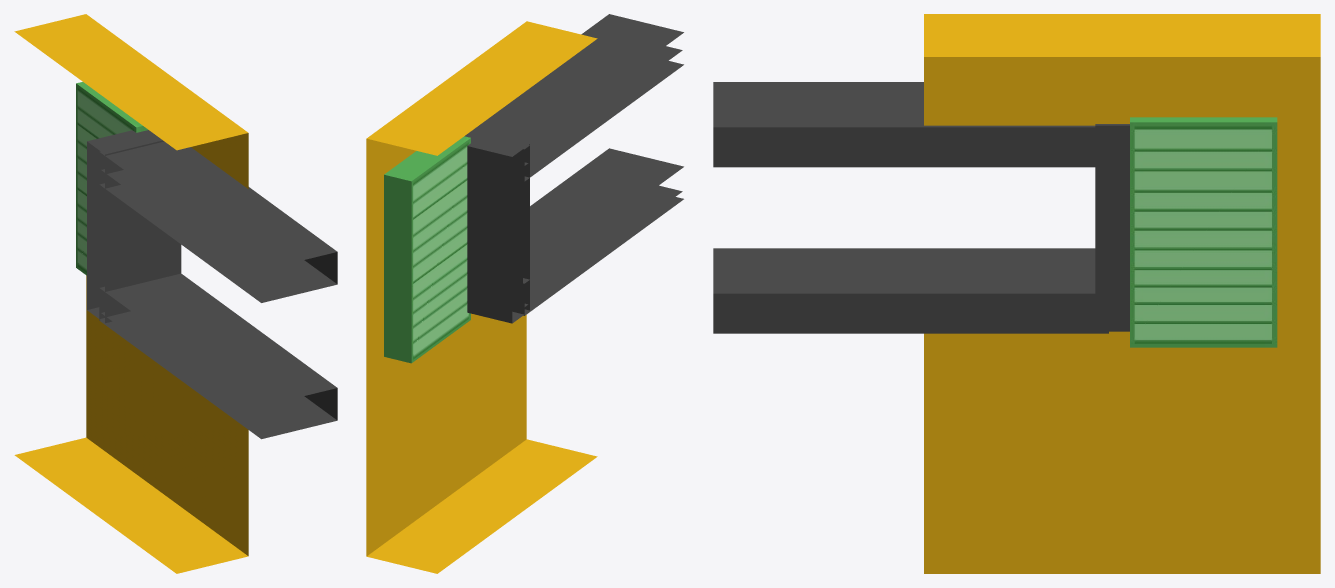
The model's file is SHUTTER5.obj.
3 views of the same model, side by side, from view 1: azimuth 30°, elevation 25°; view 2: azimuth 150°, elevation 25°; view 3: azimuth 270°, elevation 25° (orthographic). The views are drawn at different scales.
Visible parts, largest first — view 1: user; view 2: user; view 3: user.
Boxes of the visible parts, <box> form: user: <box>14,14,337,573</box>; user: <box>366,14,683,573</box>; user: <box>713,14,1320,573</box>.
Size of the model in its own units: 26.25 by 129 by 138.
Materials: 4 (4 with a texture image).
